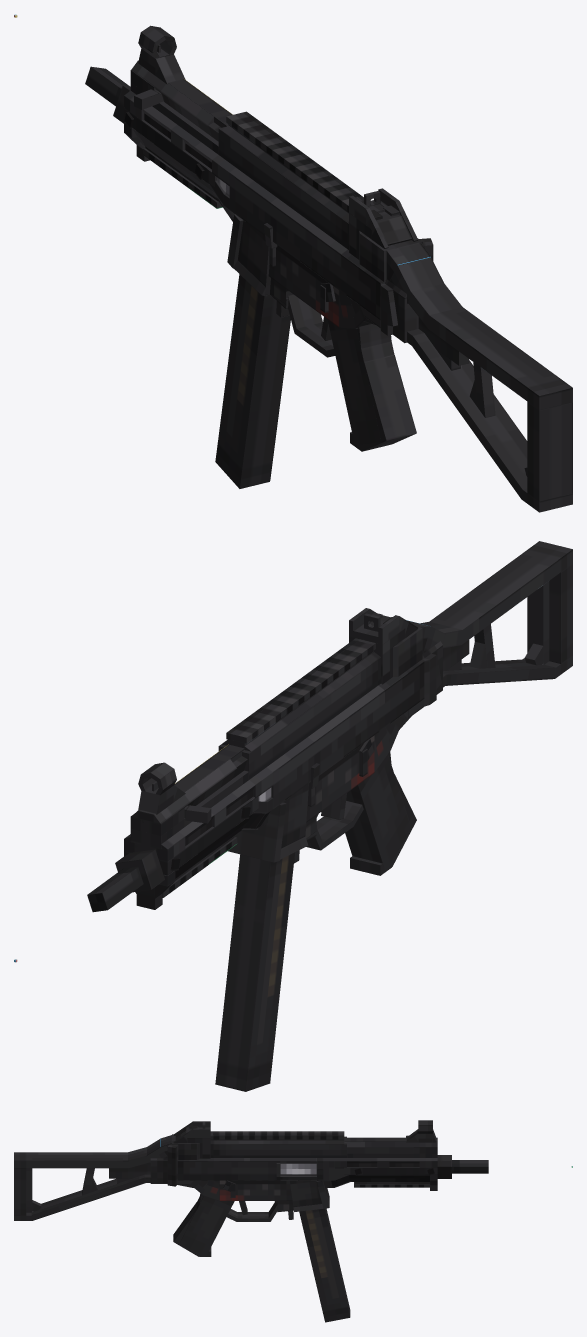
Rendered from ump45.obj.
3 renders of one model, top to bottom at view 1: azimuth 30°, elevation 25°; view 2: azimuth 150°, elevation 25°; view 3: azimuth 270°, elevation 25°, orthographic. The views are drawn at different scales.
Parts seen in each view (by area): view 1: gun_76, stock, magazine_1, frontsight_10, bolt_3; view 2: gun_76, stock, magazine_1, frontsight_10, bolt_3; view 3: gun_76, stock, magazine_1, frontsight_10, action_1.
Part boxes in pixels (box(x1,y1,x2,y2)): gun_76: box(85, 60, 422, 451); stock: box(380, 238, 572, 512); magazine_1: box(215, 274, 290, 488); frontsight_10: box(138, 25, 185, 84); bolt_3: box(134, 89, 221, 141); gun_76: box(87, 608, 424, 912); stock: box(406, 541, 572, 706); magazine_1: box(215, 852, 294, 1091); frontsight_10: box(138, 762, 185, 814); bolt_3: box(184, 756, 247, 823); gun_76: box(172, 1121, 488, 1256); stock: box(14, 1135, 178, 1220); magazine_1: box(299, 1208, 350, 1322); frontsight_10: box(406, 1120, 436, 1142); action_1: box(280, 1163, 316, 1174).
Bounding box in the file's own units: 0.4173 × 2.25 × 5.77.
